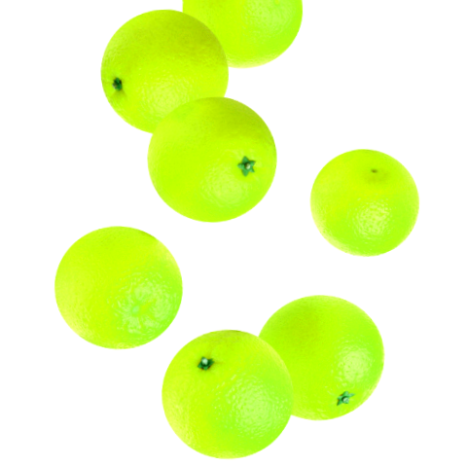orange: (41, 204, 192, 355), (78, 6, 243, 143), (151, 322, 304, 467), (246, 290, 396, 429), (141, 89, 289, 227), (307, 141, 425, 268), (180, 0, 314, 85)
